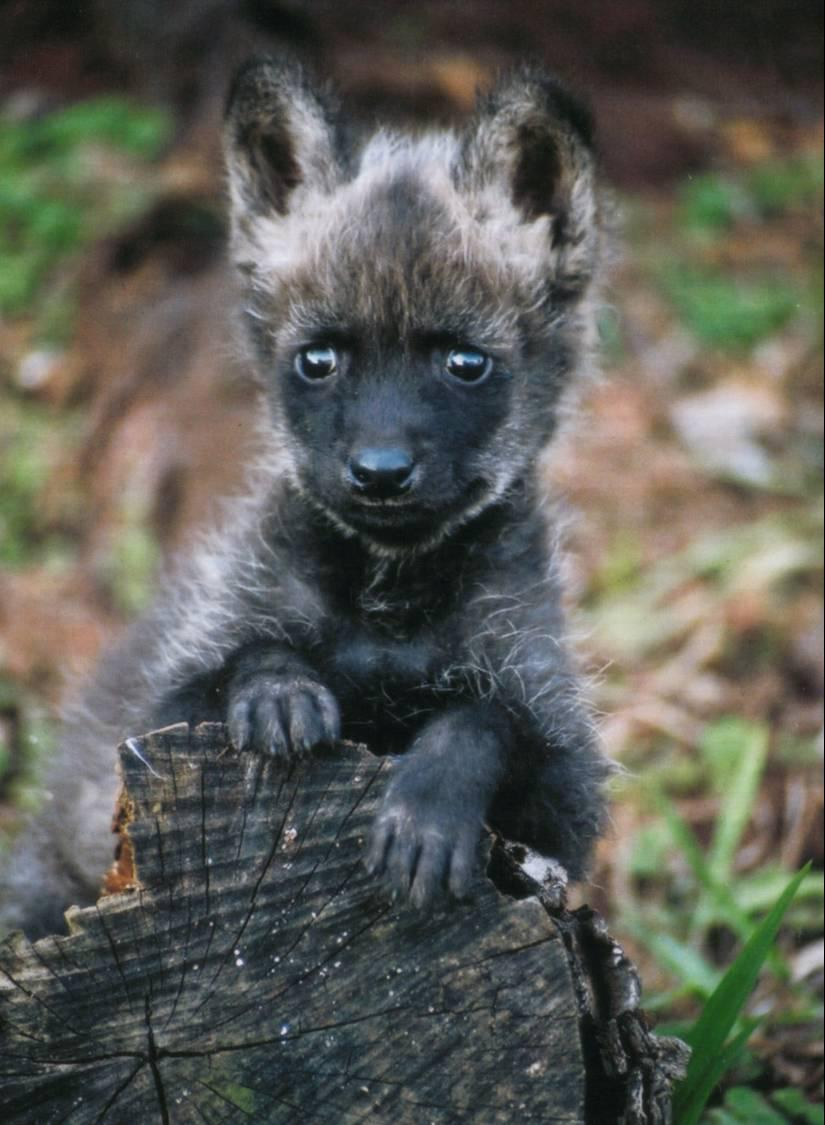LoboGuara: (144, 49, 711, 897)
